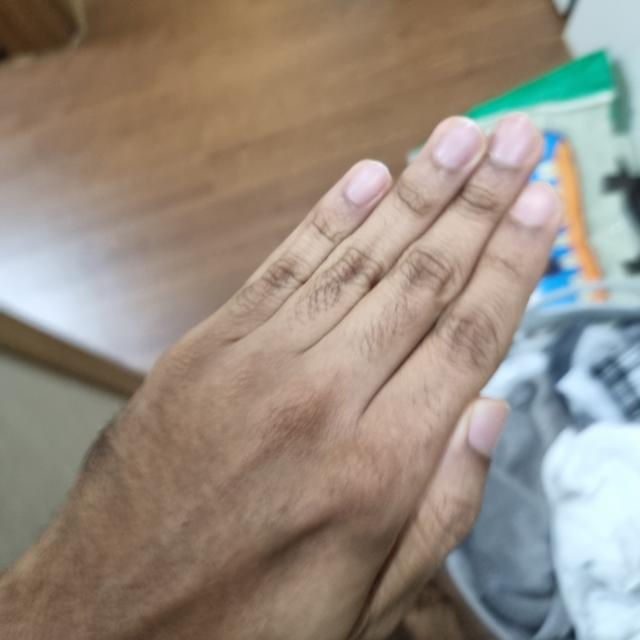Paper: (2, 116, 558, 639)
